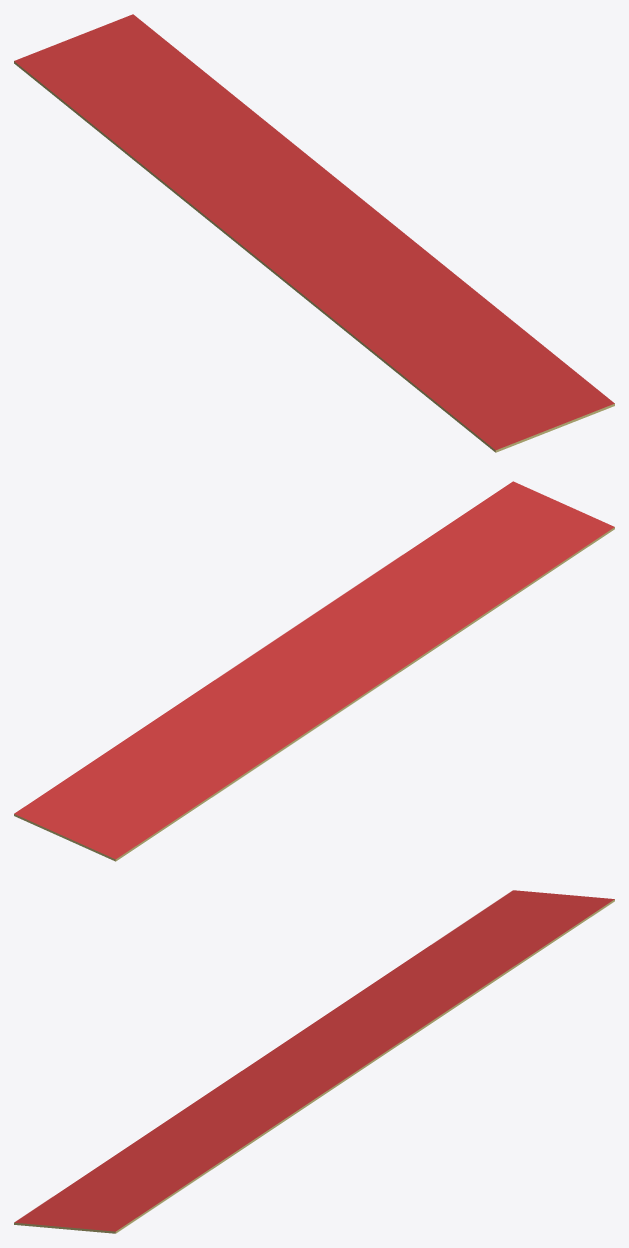
The picture shows the model from 3 angles, top to bottom: view 1: azimuth 30°, elevation 25°; view 2: azimuth 150°, elevation 25°; view 3: azimuth 330°, elevation 25°; orthographic projection. The views are drawn at different scales.
Bounding box in the file's own units: 6.63 × 38.95 × 0.944.
